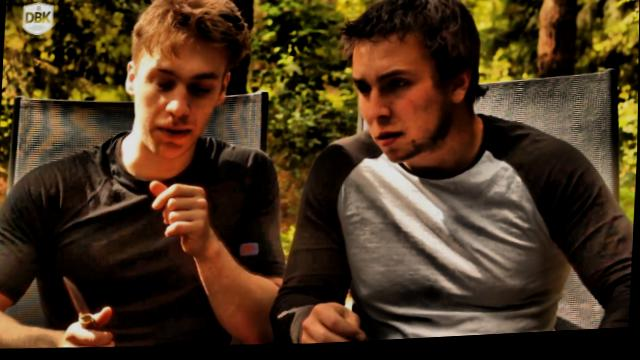knife: (52, 262, 124, 350)
